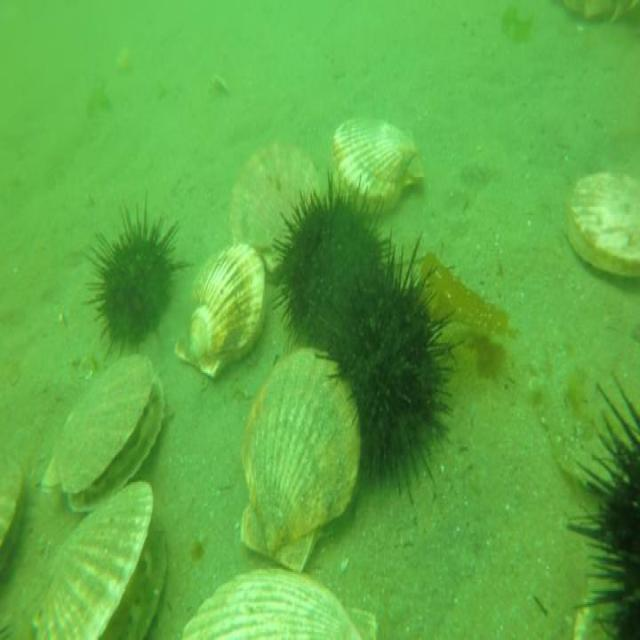echinus: (330, 247, 460, 480), (270, 176, 390, 372), (560, 370, 640, 640), (86, 192, 182, 360)
scallop: (238, 354, 361, 577), (27, 480, 167, 640), (42, 351, 164, 510), (176, 567, 378, 640), (230, 131, 324, 285), (171, 243, 265, 381), (327, 111, 427, 221), (566, 164, 640, 283), (0, 439, 23, 593)
